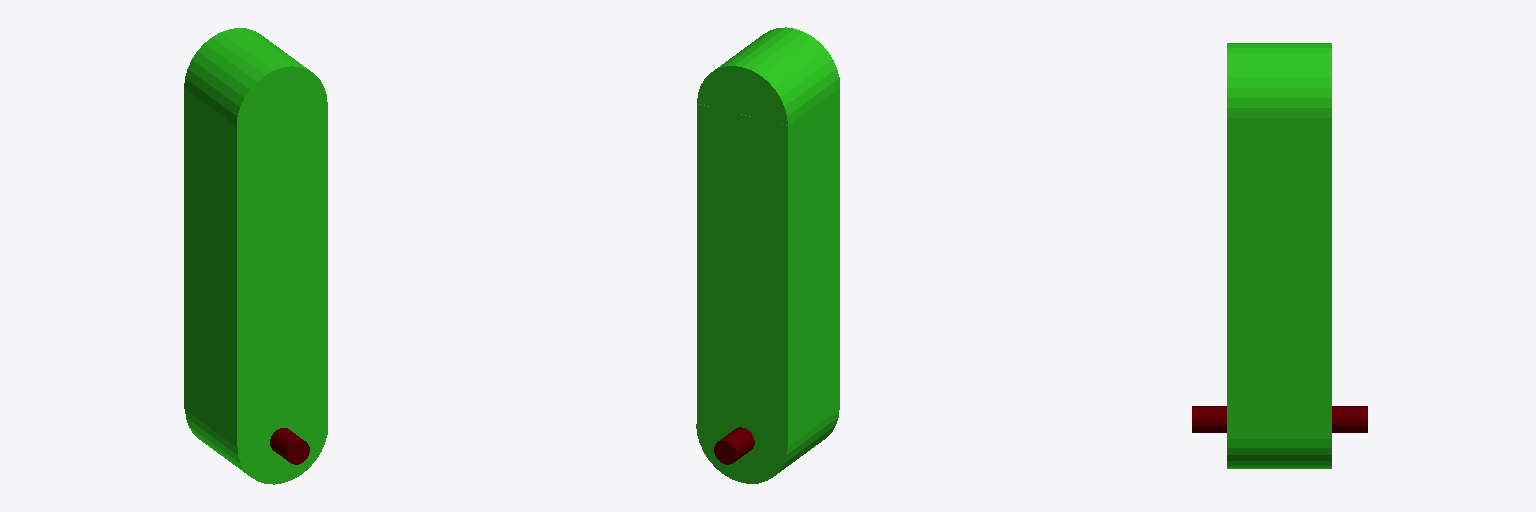
The model's file is robot_upperarm.obj.
3 renders of one model, left to right at view 1: azimuth 30°, elevation 25°; view 2: azimuth 150°, elevation 25°; view 3: azimuth 270°, elevation 25°, orthographic.
Visible parts, largest first — view 1: Upperarm; view 2: Upperarm; view 3: Upperarm.
Part boxes in pixels (x1,y1,x2,y2): Upperarm: (184, 28, 327, 484); Upperarm: (696, 27, 839, 483); Upperarm: (1192, 43, 1367, 468).
Size of the model in its own units: 2.02 by 8.73 by 3.34.